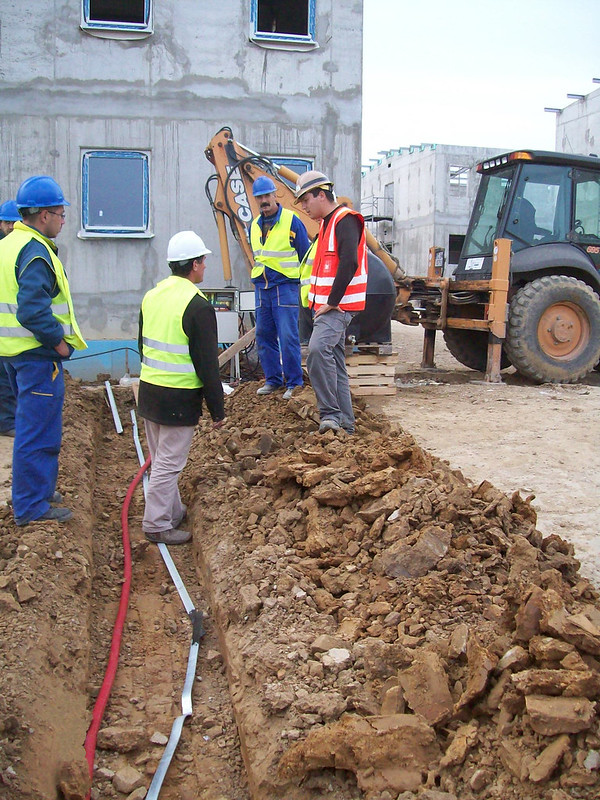Helmet: (8, 171, 75, 216), (157, 228, 217, 269), (288, 169, 340, 208), (248, 171, 281, 201)
Reflective vest: (1, 220, 92, 362), (136, 275, 216, 392), (308, 208, 372, 314), (248, 209, 306, 285)
